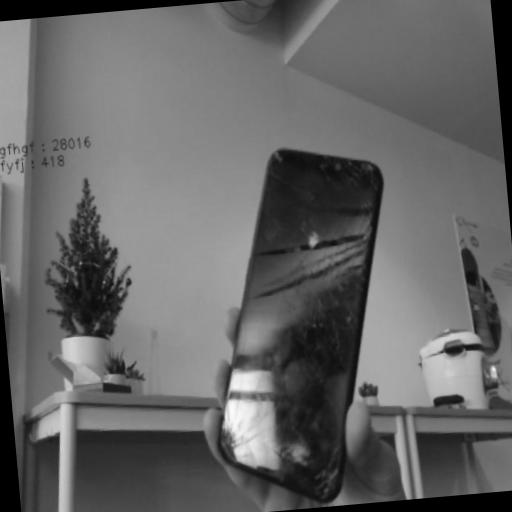phone: (221, 151, 384, 502)
